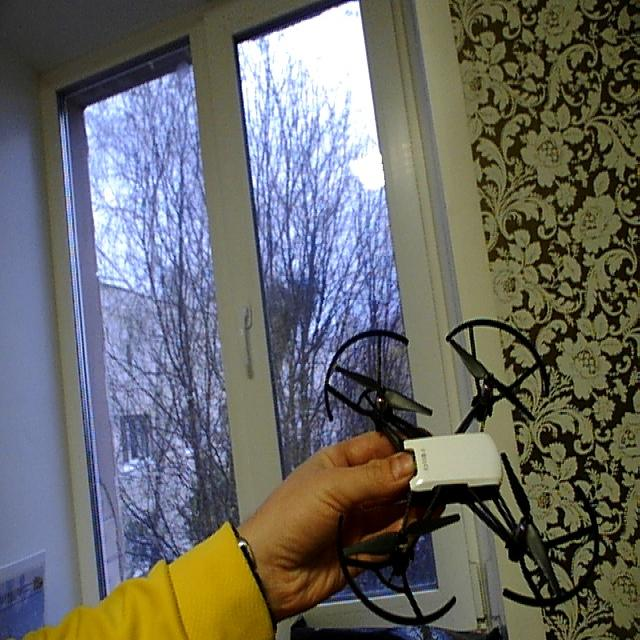drone: (321, 296, 602, 640)
